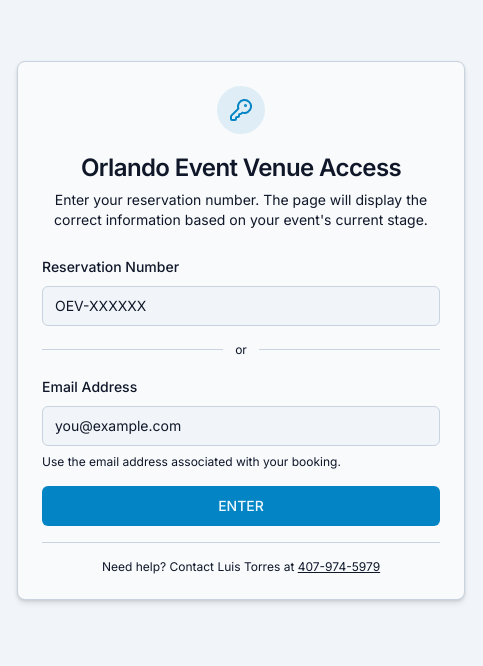
AccessCode — landing form › shows error when both inputs are empty
Click the button "ENTER": {"x": 241, "y": 506} [42,486,440,526]
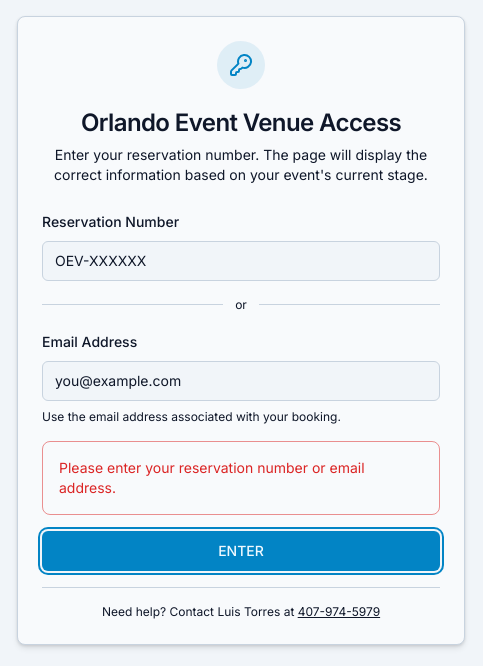
Check: the text "Please enter your reservation number or email address." is shown, box [59,458,365,496]
